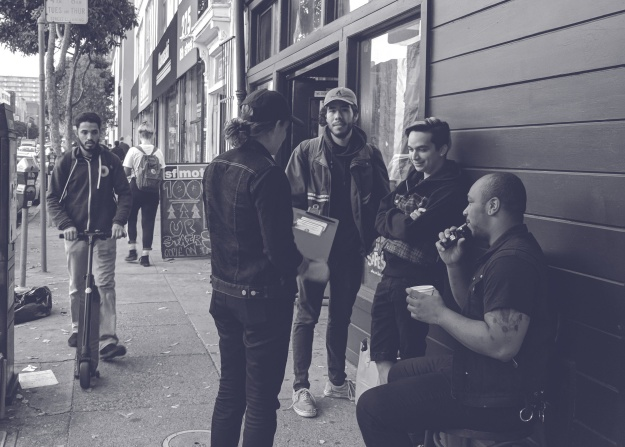person: (353, 171, 561, 447), (203, 88, 308, 447), (284, 86, 392, 417), (372, 115, 460, 384), (44, 111, 130, 361), (123, 122, 163, 265)
